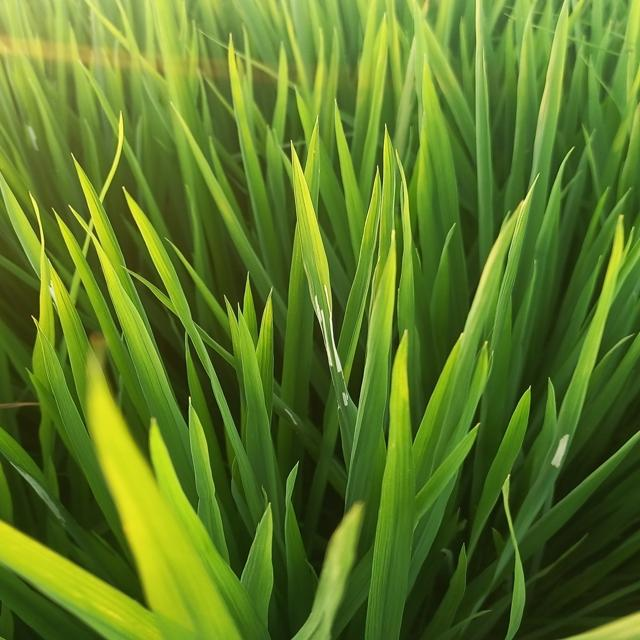brown plant hopper: (309, 282, 356, 416)
